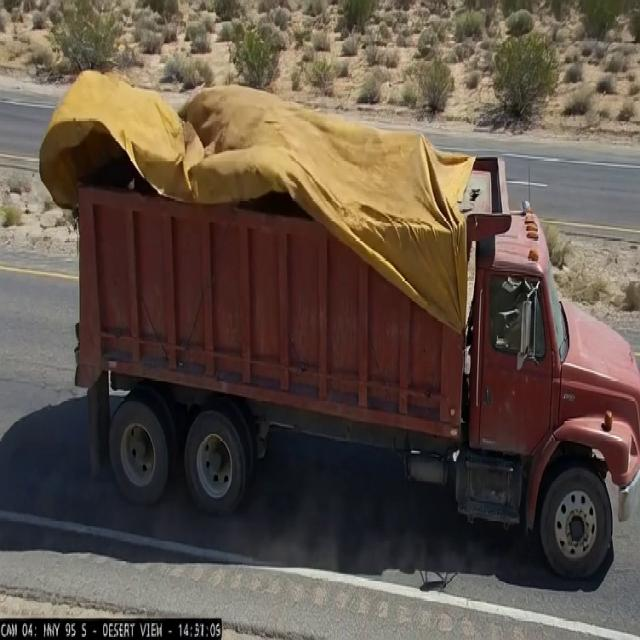Box: (46, 82, 518, 264)
Truck: (40, 25, 634, 573)
